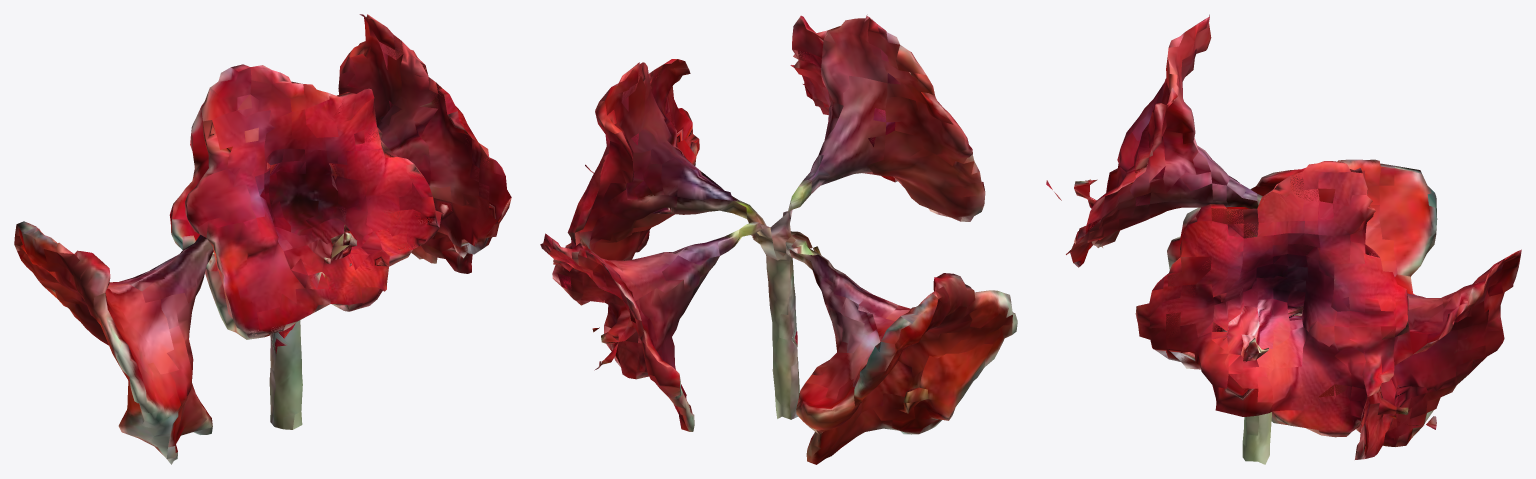
The picture shows the model from 3 angles, left to right: view 1: azimuth 30°, elevation 25°; view 2: azimuth 150°, elevation 25°; view 3: azimuth 270°, elevation 25°; orthographic projection. The views are drawn at different scales.
Visible parts, largest first — view 1: e45f6bc4; view 2: e45f6bc4; view 3: e45f6bc4.
Part boxes in pixels (box(x1,y1,x2,y2)): e45f6bc4: box(14, 14, 511, 464); e45f6bc4: box(540, 14, 1017, 464); e45f6bc4: box(1046, 14, 1521, 464).
Bounding box in the file's own units: 0.135 × 0.1254 × 0.1324.
1 material, 1 textured.
